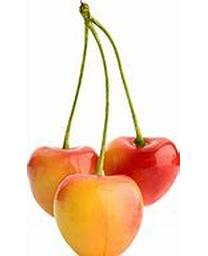cherry: (53, 171, 144, 253), (102, 135, 181, 207), (27, 147, 100, 215)
